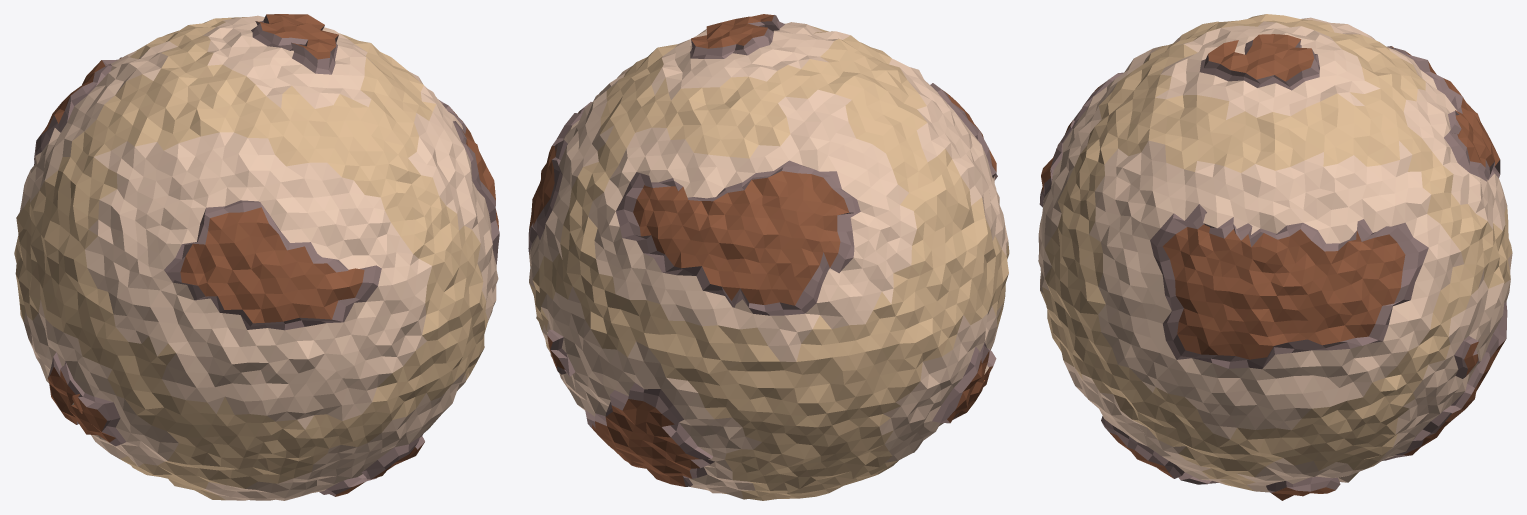
The model's file is Pluto_10.fbx.
3 views of the same model, side by side, from view 1: azimuth 30°, elevation 25°; view 2: azimuth 150°, elevation 25°; view 3: azimuth 270°, elevation 25° (orthographic). The views are drawn at different scales.
Parts seen in each view (by area): view 1: Icosphere.021; view 2: Icosphere.021; view 3: Icosphere.021.
Boxes of the visible parts, bbox=[...] form: Icosphere.021: bbox=[14, 14, 499, 500]; Icosphere.021: bbox=[528, 14, 1009, 500]; Icosphere.021: bbox=[1038, 14, 1512, 500].
Bounding box in the file's own units: 202 × 203 × 199.
